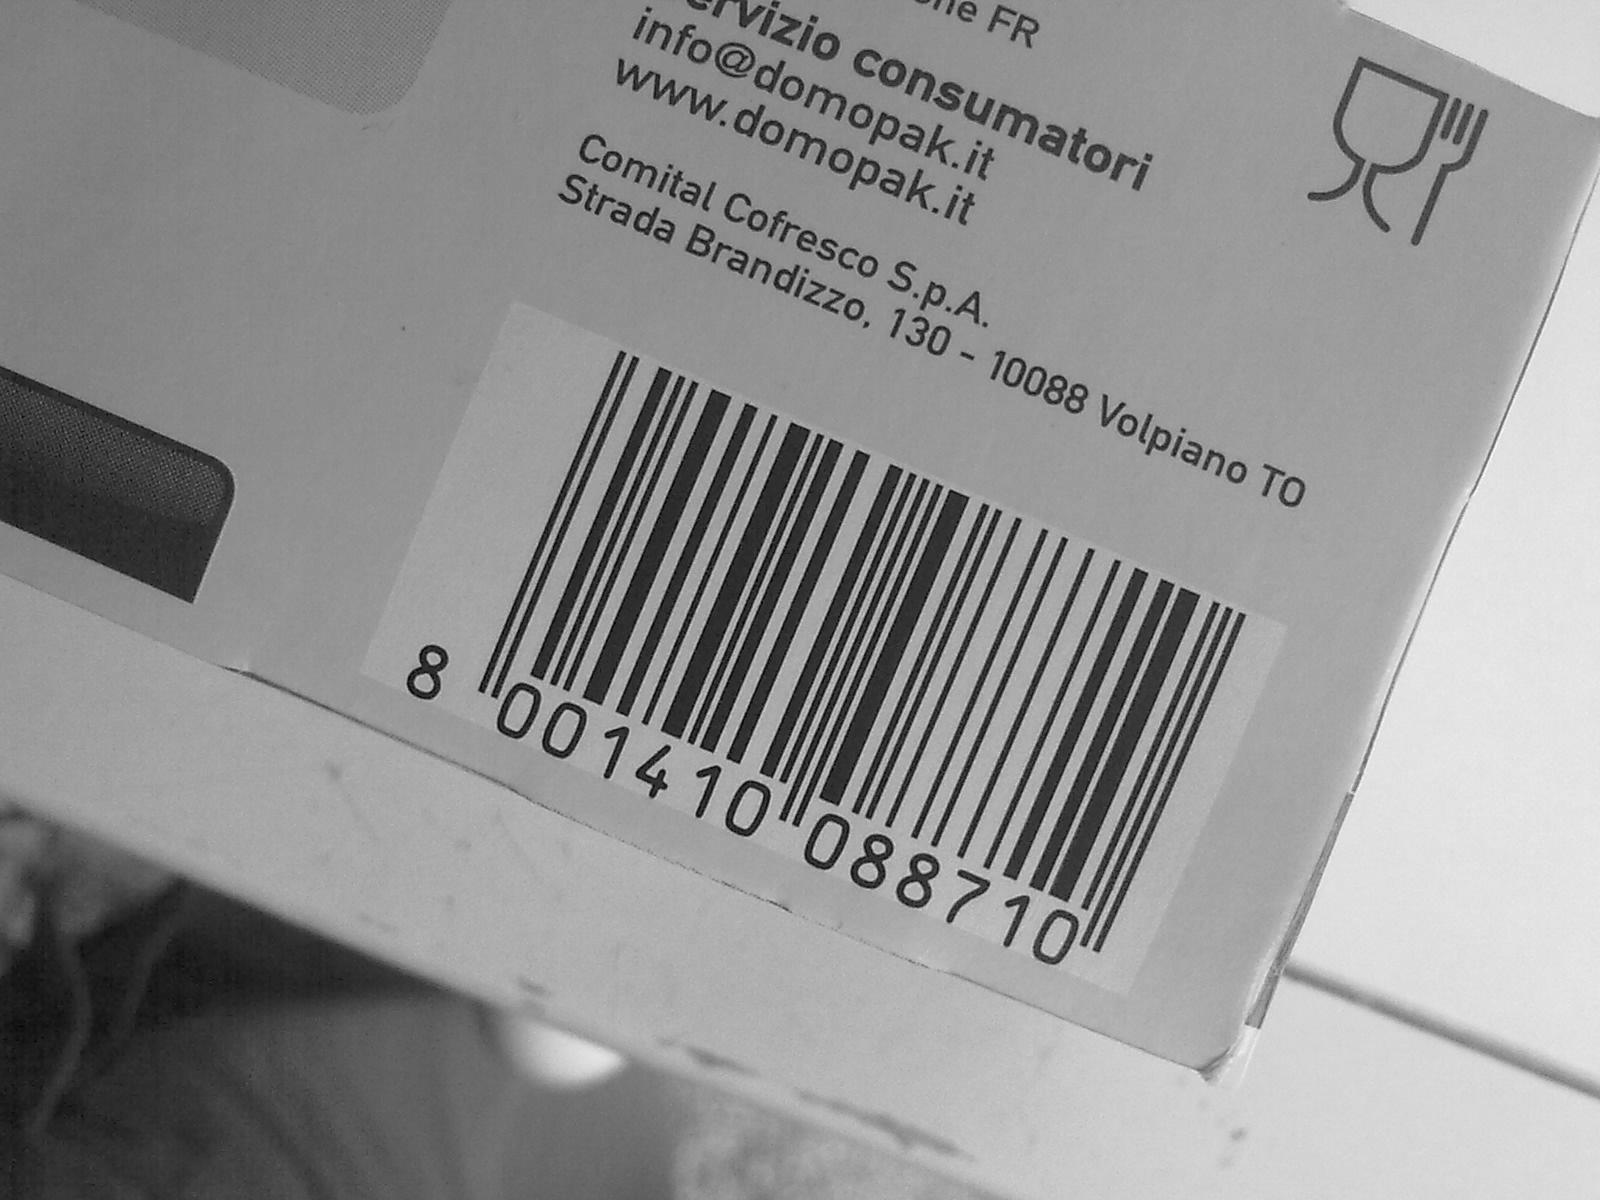Barcode: (506, 293, 1274, 966)
